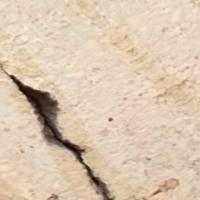crack: (0, 58, 119, 199)
